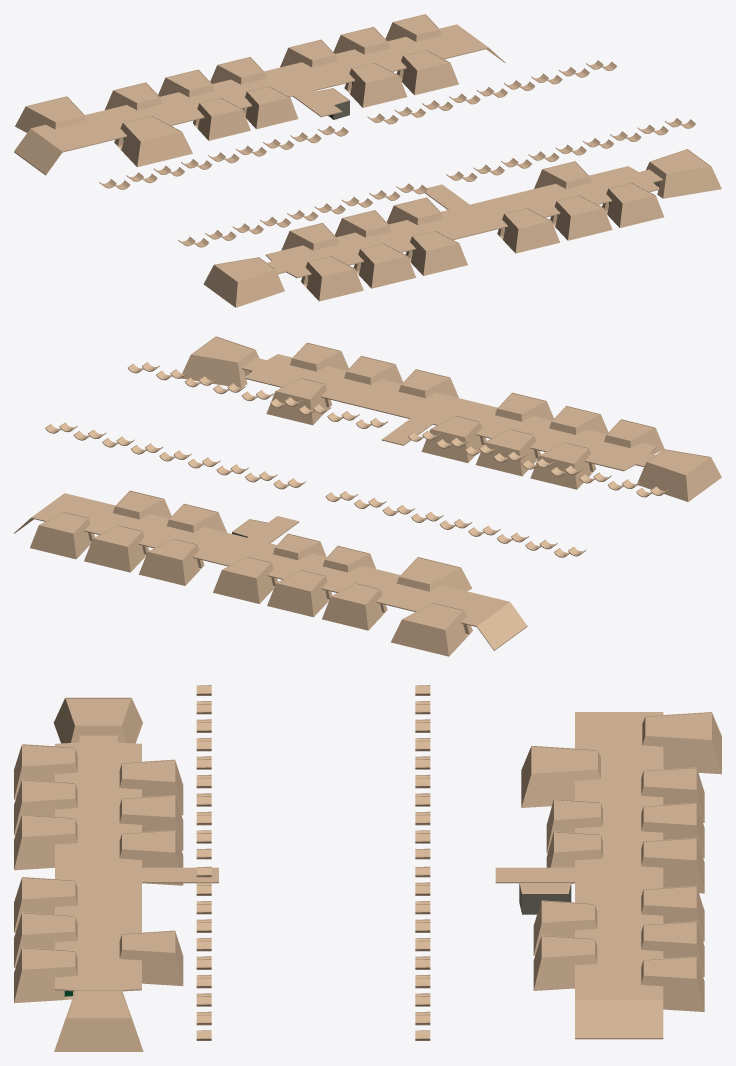
File: amphis.gltf
3 renders of one model, top to bottom at view 1: azimuth 30°, elevation 25°; view 2: azimuth 150°, elevation 25°; view 3: azimuth 270°, elevation 25°, orthographic. The views are drawn at different scales.
Parts seen in each view (by area): view 1: amphi; view 2: amphi; view 3: amphi.
Boxes of the visible parts, x1,y1,x2,y2 form: amphi: (14,14,721,307); amphi: (14,336,721,656); amphi: (14,685,721,1051).
Size of the model in its own units: 260 by 15.37 by 224.
Materials: 1 (1 with a texture image).
